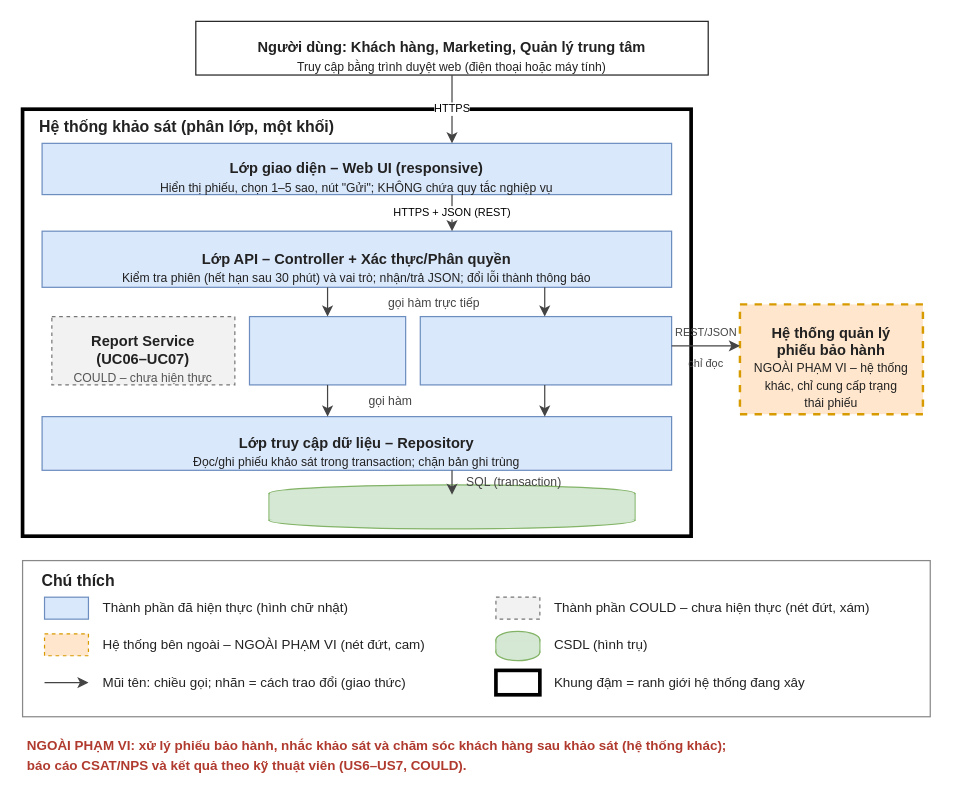
Some shapes in this 972 by 798 pixel diagram are drawn without their labels. Each missing label, with the centre of its shape:
CSDL quan hệ Phiếu khảo sát (duy nhất theo mã phiếu bảo hành): pixel 451 506
Result Service (UC05) Xem kết quả khảo sát cho Marketing: pixel 327 350
Survey Service (UC01–UC04) Áp BR1–BR5: phiếu "Hoàn tất", đúng chủ phiếu, 1–5 sao: pixel 545 350
